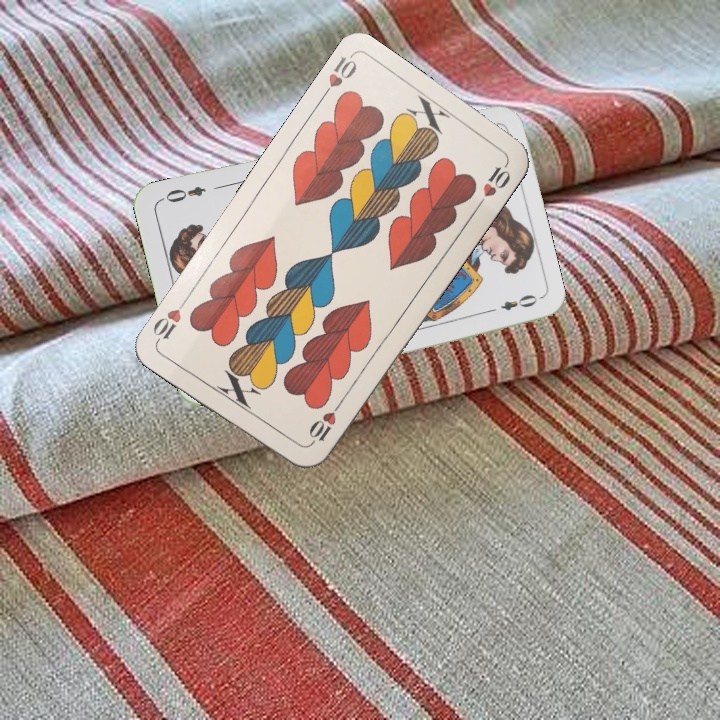H10: (316, 52, 360, 104), (304, 397, 344, 449)
